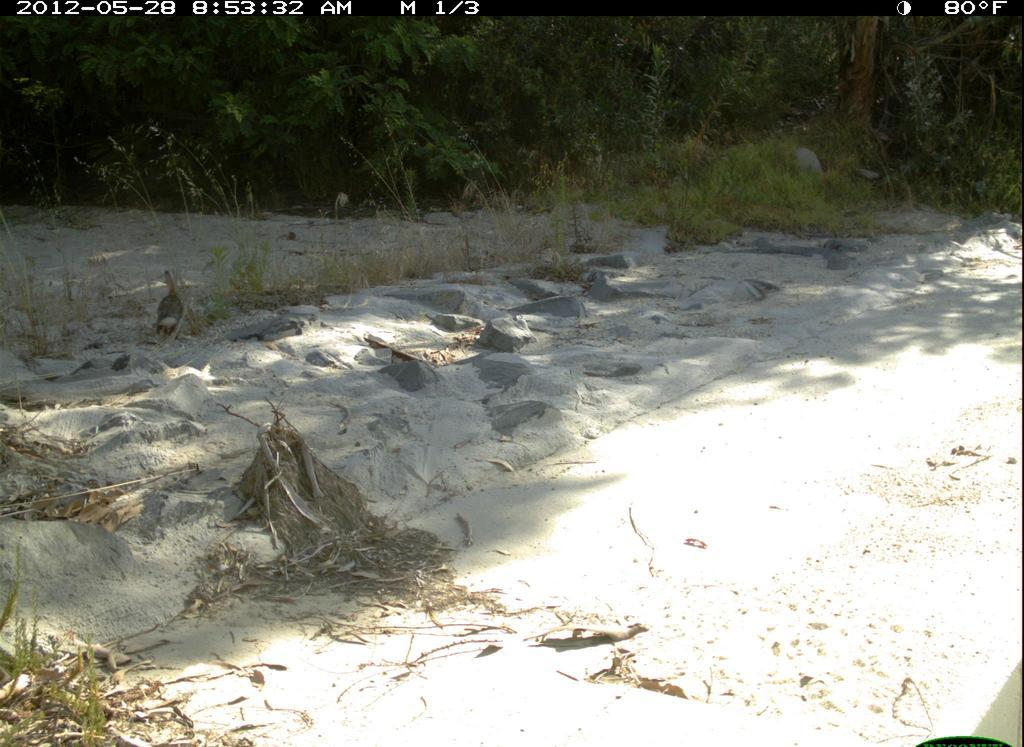rabbit: (143, 267, 196, 351)
